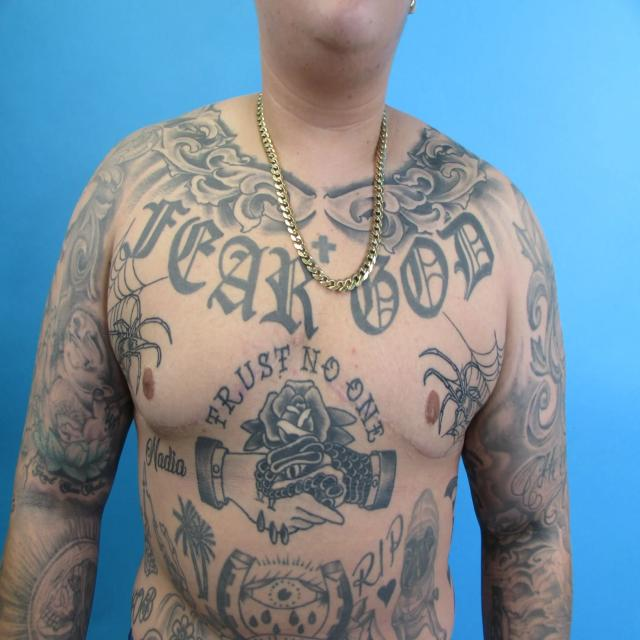Seno herido: (308, 296, 482, 478), (117, 282, 282, 458)
